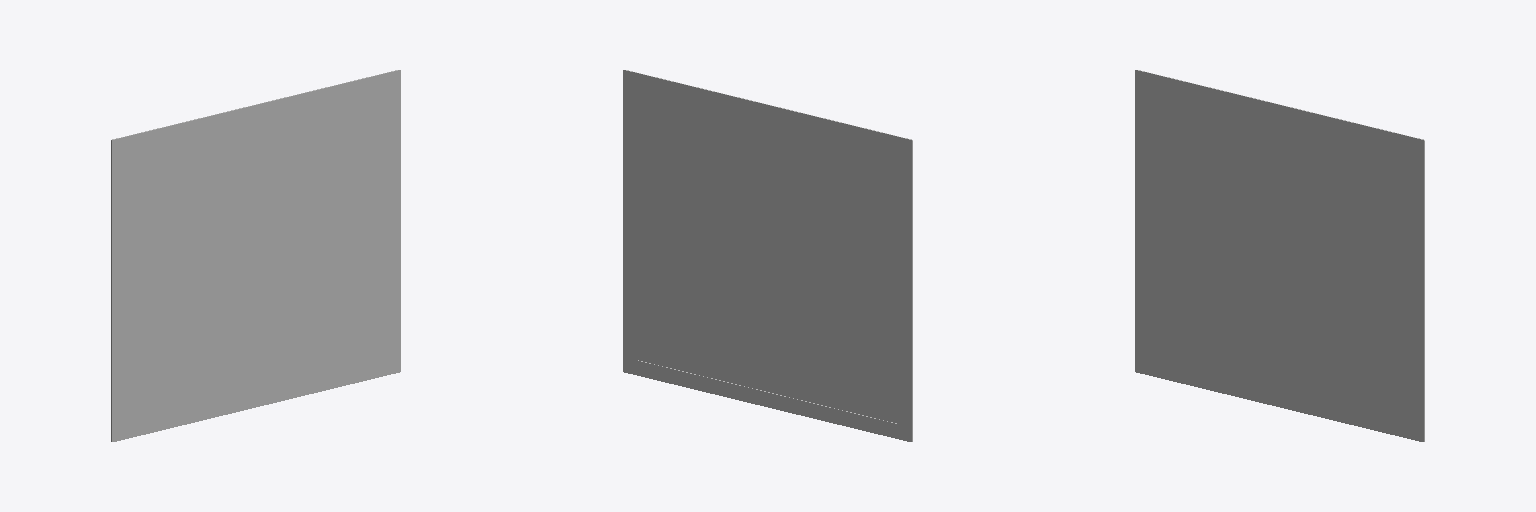
The model's file is blocks-grass-pavement-closed-40m.obj.
3 views of the same model, side by side, from view 1: azimuth 30°, elevation 25°; view 2: azimuth 150°, elevation 25°; view 3: azimuth 330°, elevation 25° (orthographic).
Visible parts, largest first — view 1: blocks-grass-pavement-closed-40m_Plane.040; view 2: blocks-grass-pavement-closed-40m_Plane.040; view 3: blocks-grass-pavement-closed-40m_Plane.040.
Boxes of the visible parts, box(x1,y1,x2,y2) form: blocks-grass-pavement-closed-40m_Plane.040: box(111, 70, 400, 441); blocks-grass-pavement-closed-40m_Plane.040: box(623, 70, 912, 441); blocks-grass-pavement-closed-40m_Plane.040: box(1135, 70, 1424, 441).
Size of the model in its own units: 40 by 40 by 0.15.